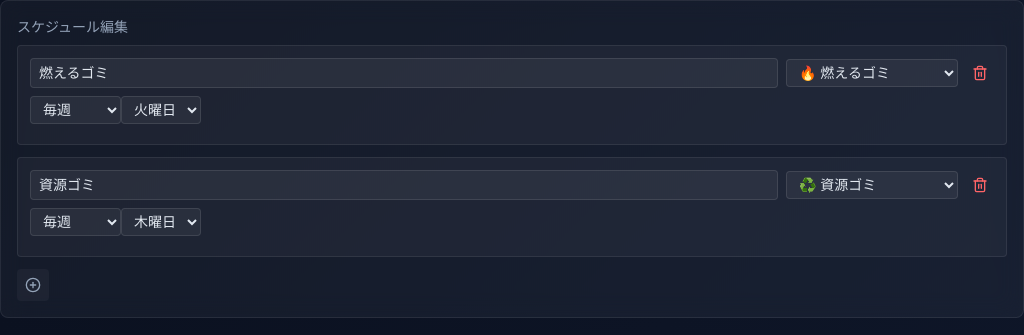
Test: ScheduleEditor › 自動保存のIPC完了後にユーザーの入力が失われない
The image size is (1024, 335).
Replace the text in the 1st field showing "燃えるゴミ" with "A" at [404, 73], box left=30, top=58, right=778, bottom=88
Wait 500 ms
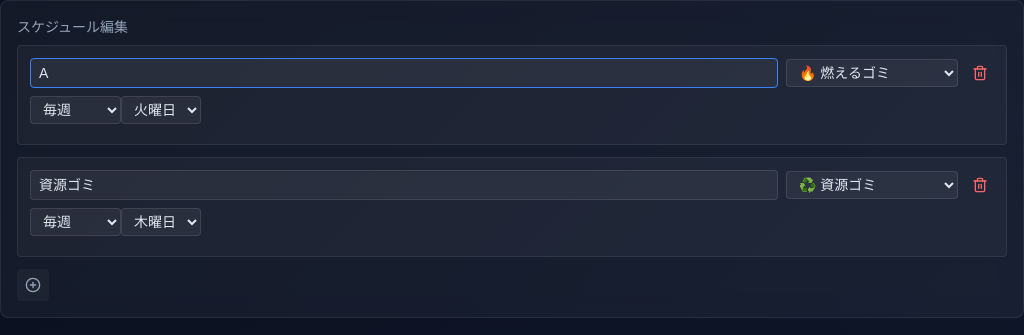
Type "B" into the 1st field showing "燃えるゴミ" at [404, 73], box left=30, top=58, right=778, bottom=88
Wait 100 ms
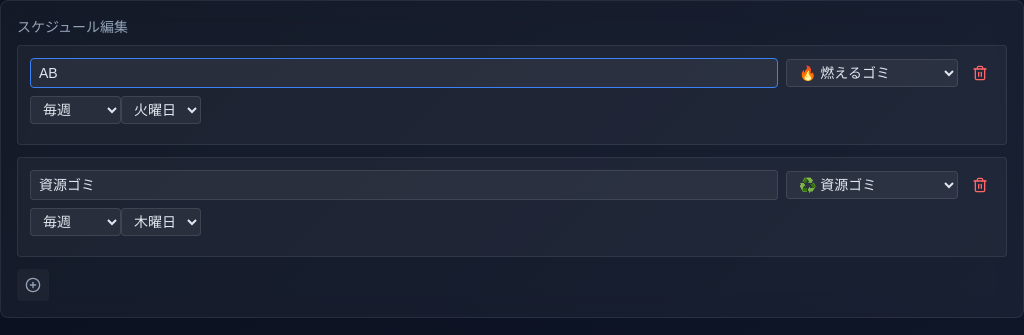
Result: the 1st field showing "AB" is shown at left=30, top=58, right=778, bottom=88
